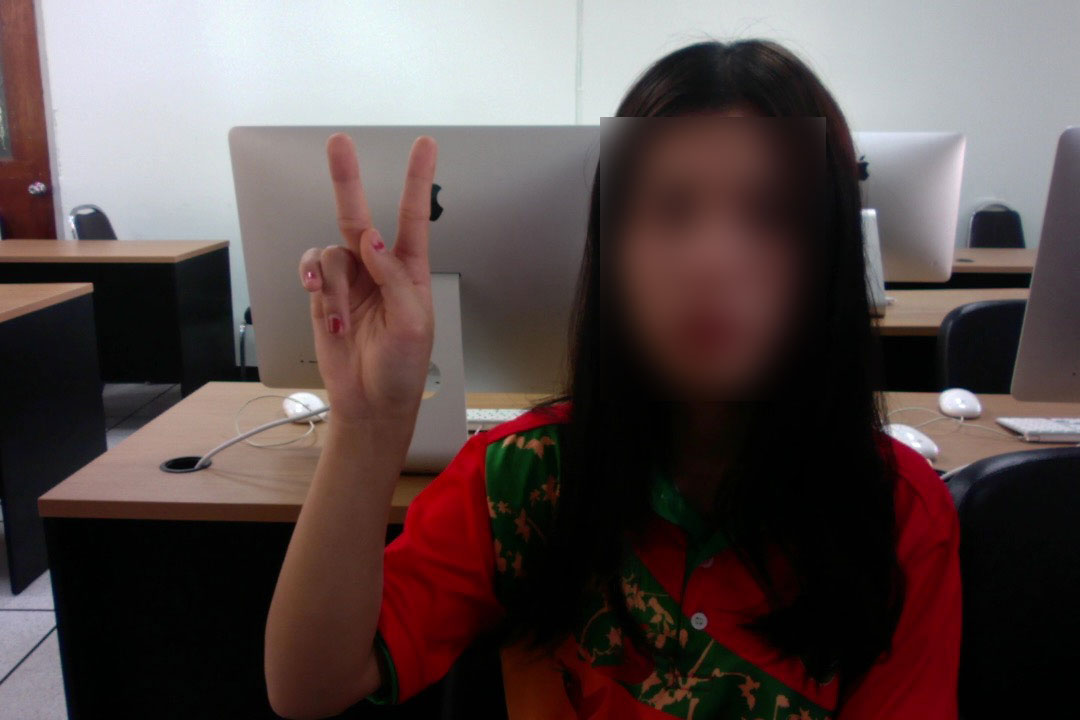ko: (292, 122, 452, 440)
